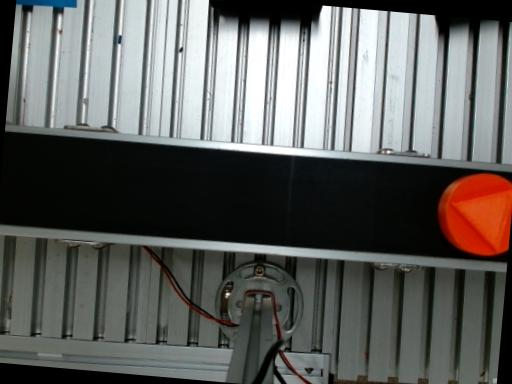Not_Square: (451, 189, 512, 254)
Orange_Waper: (438, 173, 512, 255)
